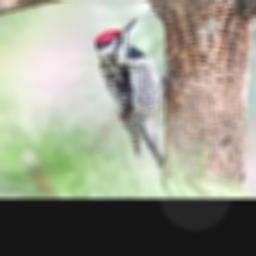Woodpecker: (96, 16, 167, 170)
